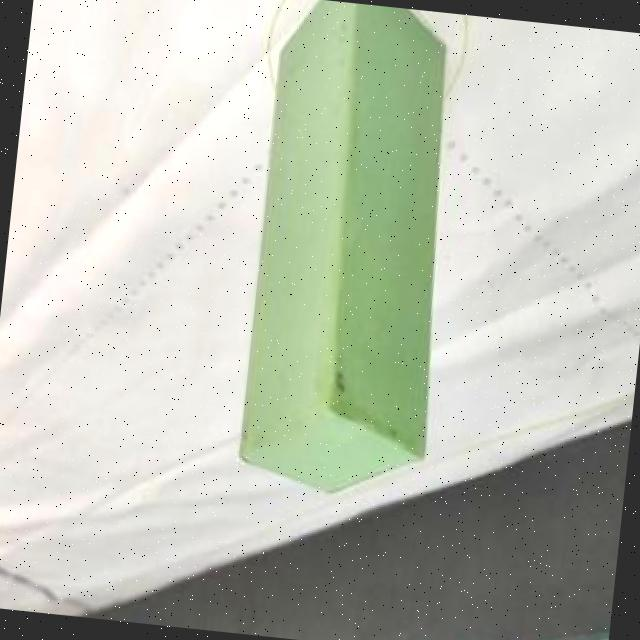greenbox: (230, 0, 472, 505)
